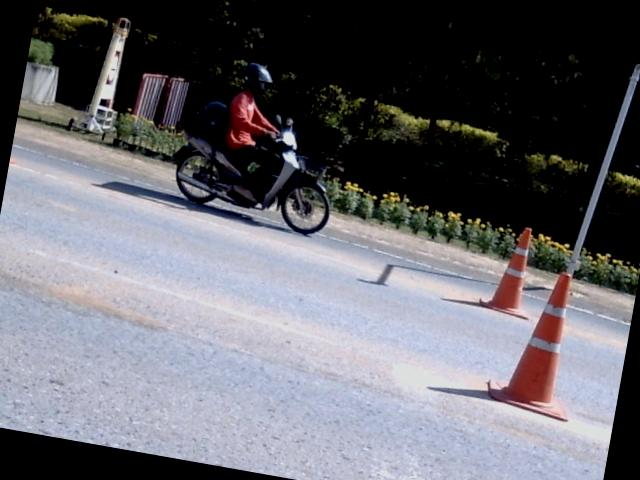helmet: (242, 58, 272, 92)
motor: (174, 101, 332, 233)
person: (224, 62, 279, 201)
